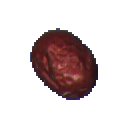gd: (20, 15, 127, 119)
